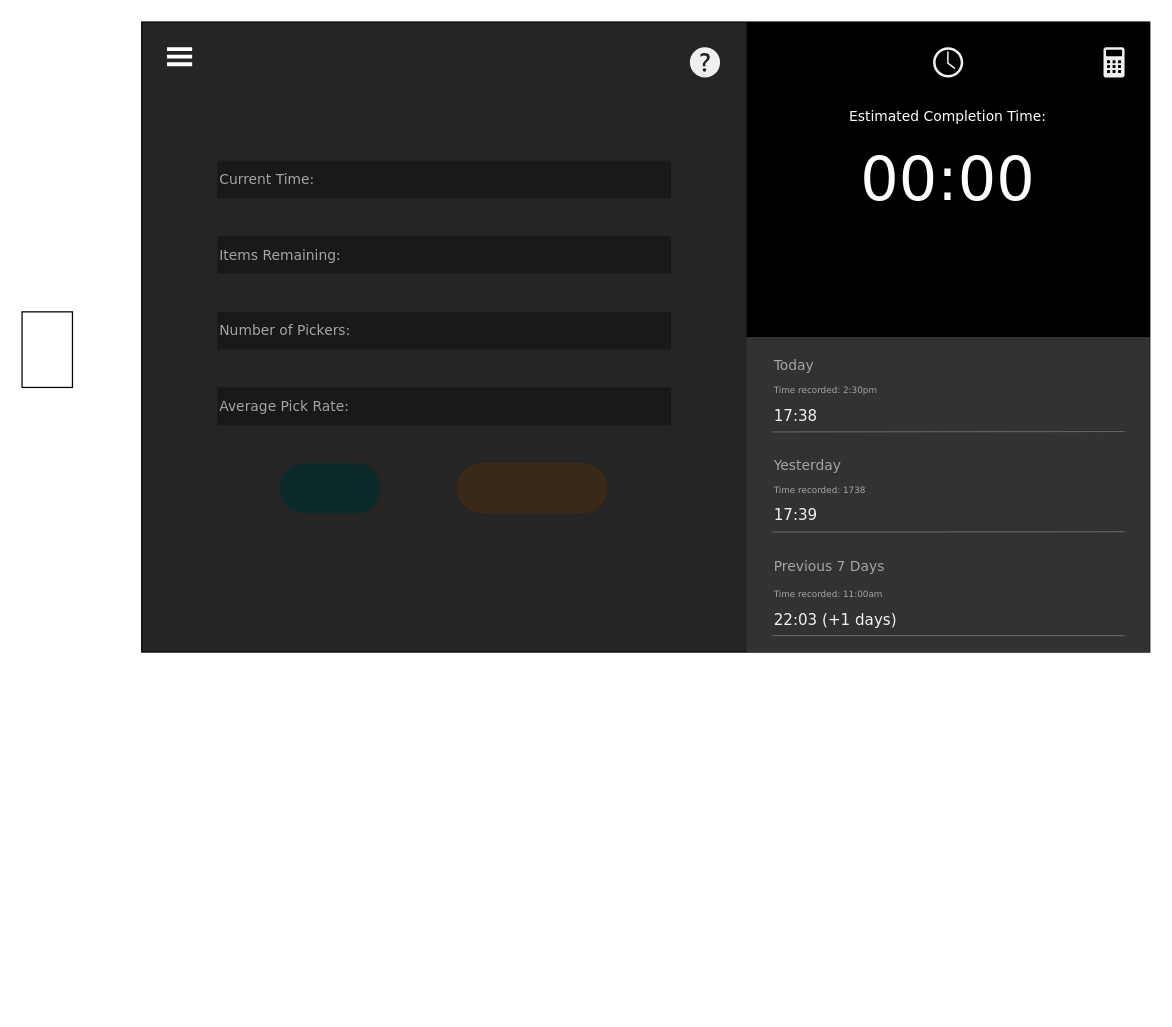
This 1172x1027 diagram has some shape labels left out. The centre of each missing label's shape, as x and y in pixels:
CALCULATE: pixel 531 487
CLEAR: pixel 330 487
